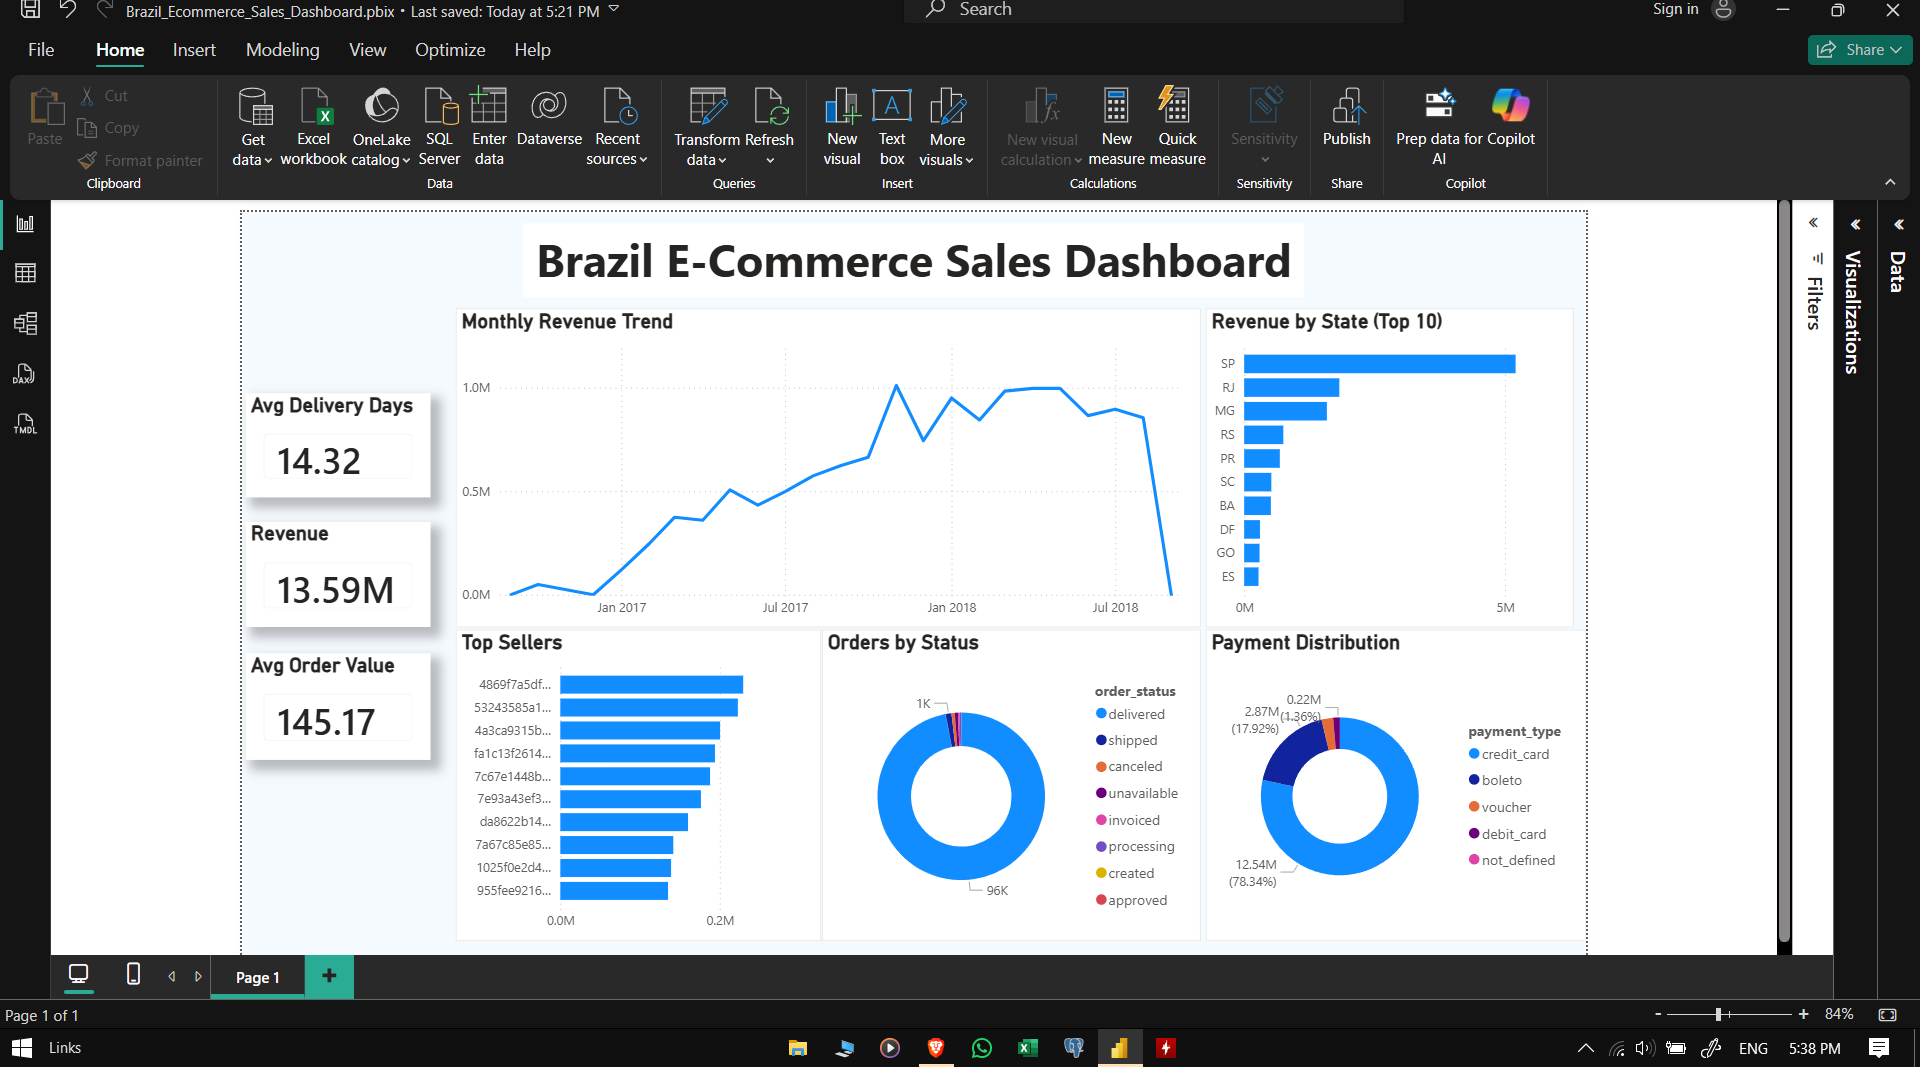

The dashboard page shown, as its layout file describes it:
{"tool":"powerbi","page":{"name":"Page 1","canvas":[1280,720],"ordinal":0},"visuals":[{"type":"textbox","box":[267.9,10.7,744,70.2],"z":0},{"type":"cardVisual","title":"Revenue","fields":{"Data":["Sum(monthly_revenue.monthly_revenue)"]},"box":[3.6,295.8,176.3,100.2],"z":1000},{"type":"cardVisual","title":"Avg Order Value","fields":{"Data":["Avg(aov_state.avg_order_value)"]},"box":[3.6,420.1,176.3,101.4],"z":2000},{"type":"lineChart","title":"Monthly Revenue Trend","fields":{"Category":["monthly_revenue.order_month.Variation.Date Hierarchy.Year","monthly_revenue.order_month.Variation.Date Hierarchy.Month"],"Y":["Sum(monthly_revenue.monthly_revenue)"]},"box":[204,91.8,709.9,304.2],"z":3000},{"type":"clusteredBarChart","title":"Revenue by State (Top 10)","fields":{"Category":["state_revenue.customer_state"],"Y":["Sum(state_revenue.total_revenue)"]},"box":[917.5,91.8,350.1,304.2],"z":4000},{"type":"donutChart","title":"Payment Distribution","fields":{"Category":["payment_types.payment_type"],"Y":["Sum(payment_types.total_payment_value)"]},"box":[917.5,397.2,362.2,297],"z":5000},{"type":"donutChart","title":"Orders by Status","fields":{"Category":["order_status.order_status"],"Y":["Sum(order_status.total_orders)"]},"box":[552.9,397.2,361,297],"z":6000},{"type":"clusteredBarChart","title":"Top Sellers","fields":{"Category":["top_sellers.seller_id"],"Y":["Sum(top_sellers.seller_revenue)"]},"box":[204,397.2,347.7,297],"z":7000},{"type":"cardVisual","title":"Avg Delivery Days","fields":{"Data":["Avg(delivery_analysis.avg_delivery_days)"]},"box":[3.6,172.6,176.3,99],"z":8000}]}

Visuals, with their boxes on the page's 1280x720 design canvas (x1, y1, x2, y2). These are canvas units, not pixel positions in the 1920x1067 screenshot, which may show the page scaled, cropped or inside an application window:
textbox: left=268, top=11, right=1012, bottom=81
"Revenue" cardVisual: left=4, top=296, right=180, bottom=396
"Avg Order Value" cardVisual: left=4, top=420, right=180, bottom=522
"Monthly Revenue Trend" lineChart: left=204, top=92, right=914, bottom=396
"Revenue by State (Top 10)" clusteredBarChart: left=918, top=92, right=1268, bottom=396
"Payment Distribution" donutChart: left=918, top=397, right=1280, bottom=694
"Orders by Status" donutChart: left=553, top=397, right=914, bottom=694
"Top Sellers" clusteredBarChart: left=204, top=397, right=552, bottom=694
"Avg Delivery Days" cardVisual: left=4, top=173, right=180, bottom=272
